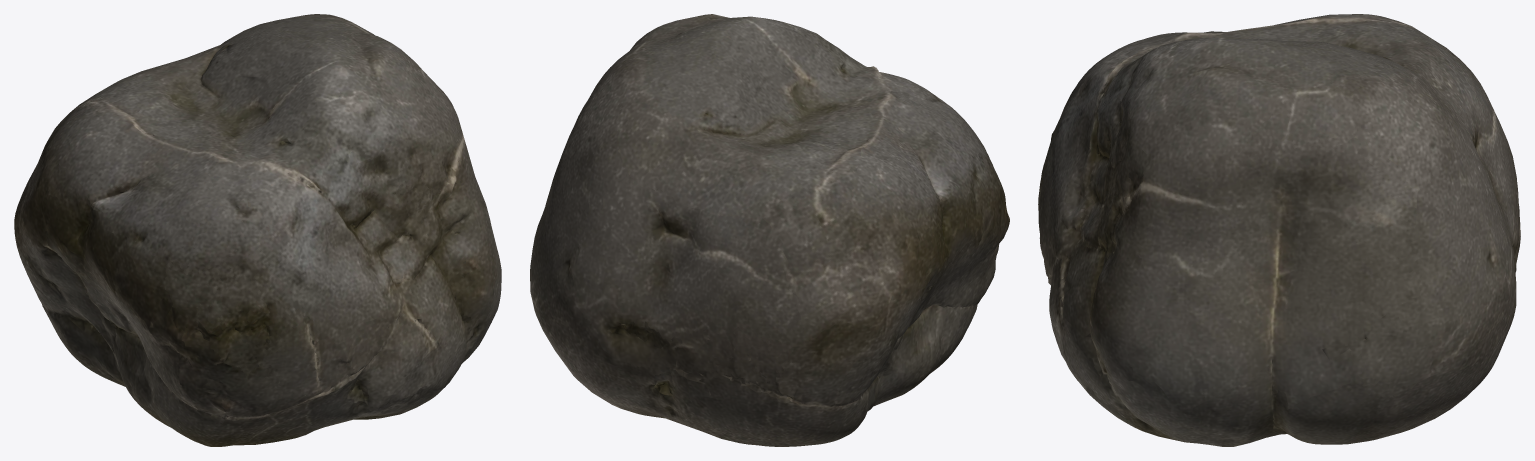
File: river-boulder-hero-v21.glb
3 views of the same model, side by side, from view 1: azimuth 30°, elevation 25°; view 2: azimuth 150°, elevation 25°; view 3: azimuth 270°, elevation 25° (orthographic). The views are drawn at different scales.
Visible parts, largest first — view 1: geometry_0; view 2: geometry_0; view 3: geometry_0.
Part boxes in pixels (<box>): geometry_0: <box>14,14,501,446</box>; geometry_0: <box>530,14,1009,446</box>; geometry_0: <box>1038,14,1520,446</box>.
Bounding box in the file's own units: 0.3498 × 0.2982 × 0.3488.
Materials: 1 (1 with a texture image).
